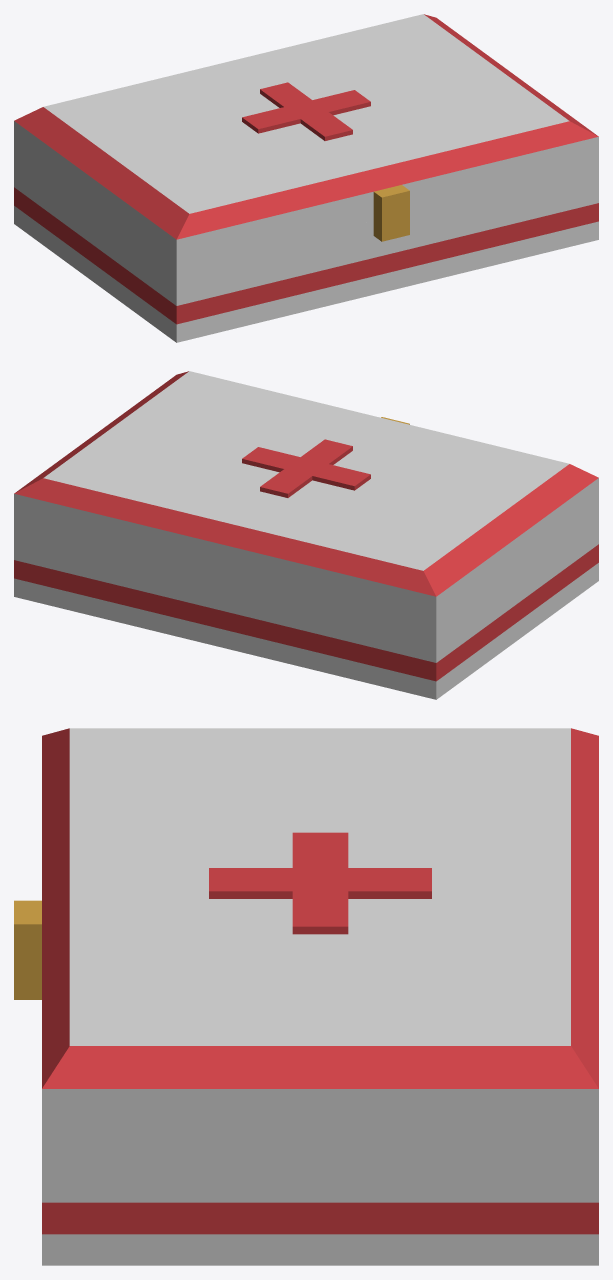
Rendered from First Aid Box.fbx.
3 renders of one model, top to bottom at view 1: azimuth 30°, elevation 25°; view 2: azimuth 150°, elevation 25°; view 3: azimuth 270°, elevation 25°, orthographic. The views are drawn at different scales.
Parts seen in each view (by area): view 1: Lid, First Aid Box; view 2: Lid, First Aid Box; view 3: Lid, First Aid Box.
Part boxes in pixels (x1,y1,x2,y2): Lid: (14,14,598,269); First Aid Box: (14,150,598,342); Lid: (14,371,598,626); First Aid Box: (14,507,598,699); Lid: (14,728,598,1139); First Aid Box: (42,1139,598,1265).
Size of the model in its own units: 210 by 58.1 by 147.
